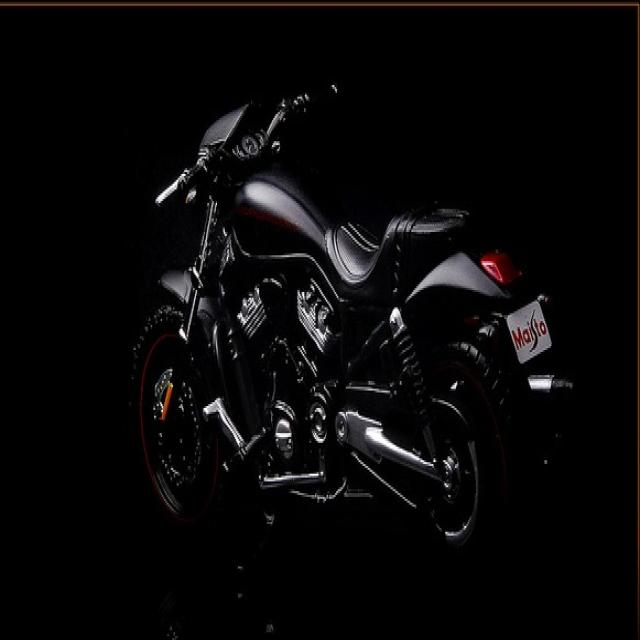Motorbike: (146, 94, 571, 597)
